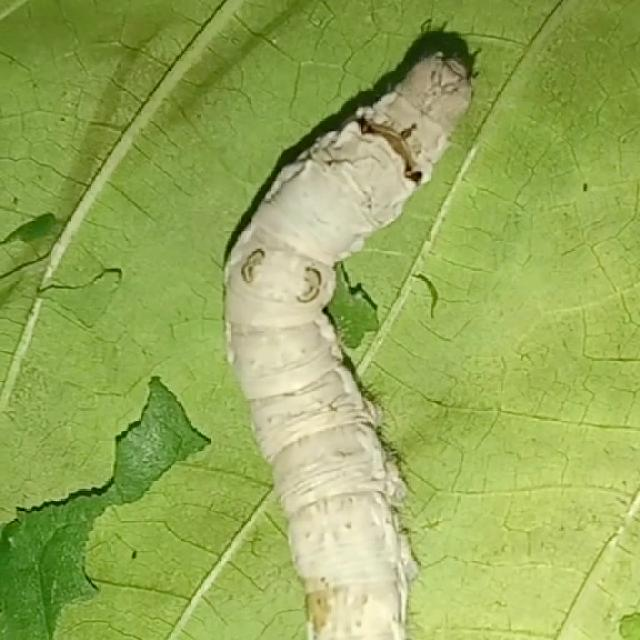Grasserie: (206, 15, 514, 640)
